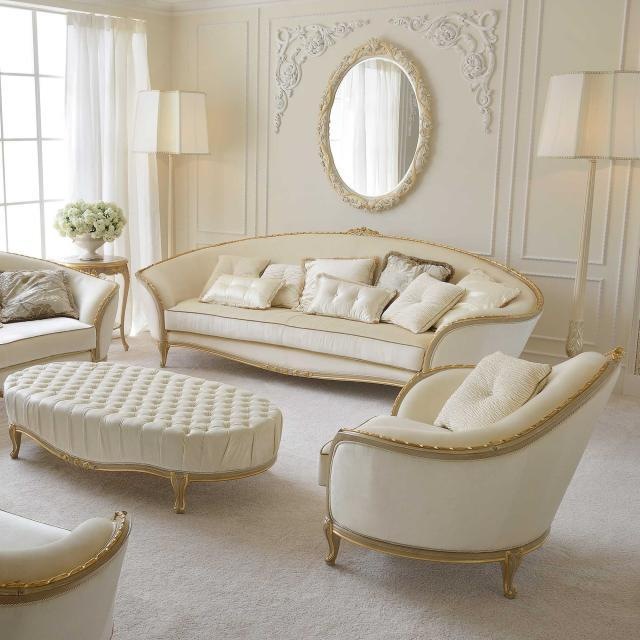sofa: (317, 337, 622, 590), (135, 228, 544, 390), (0, 250, 120, 398)
